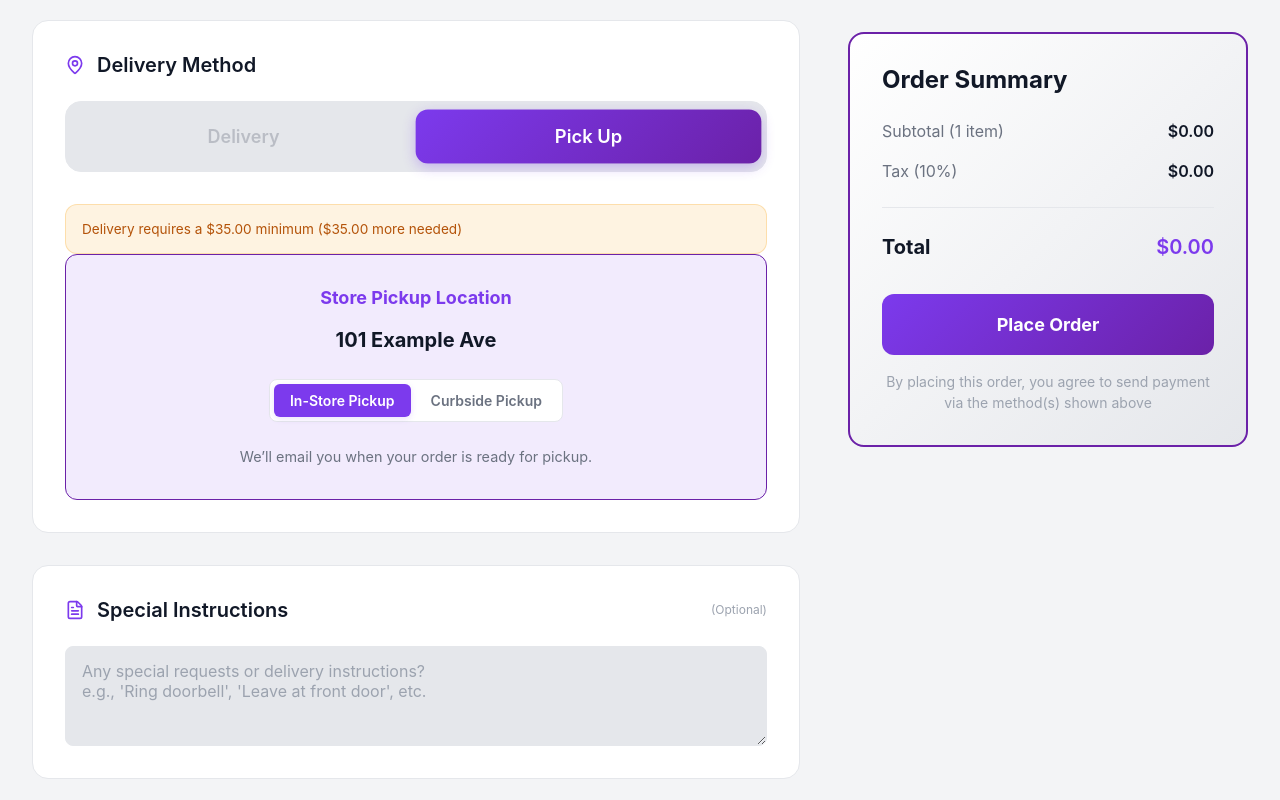
it: CheckoutPage › Curbside Pickup option › reveals curbside vehicle make/model and color inputs when Curbside is toggled
(page scrolled)
expect the field labelled "vehicle make & model" is not shown: met
Note: Click Curbside toggle
Step 1. Click the button "Curbside Pickup" → click(486, 400), box [415, 384, 558, 417]
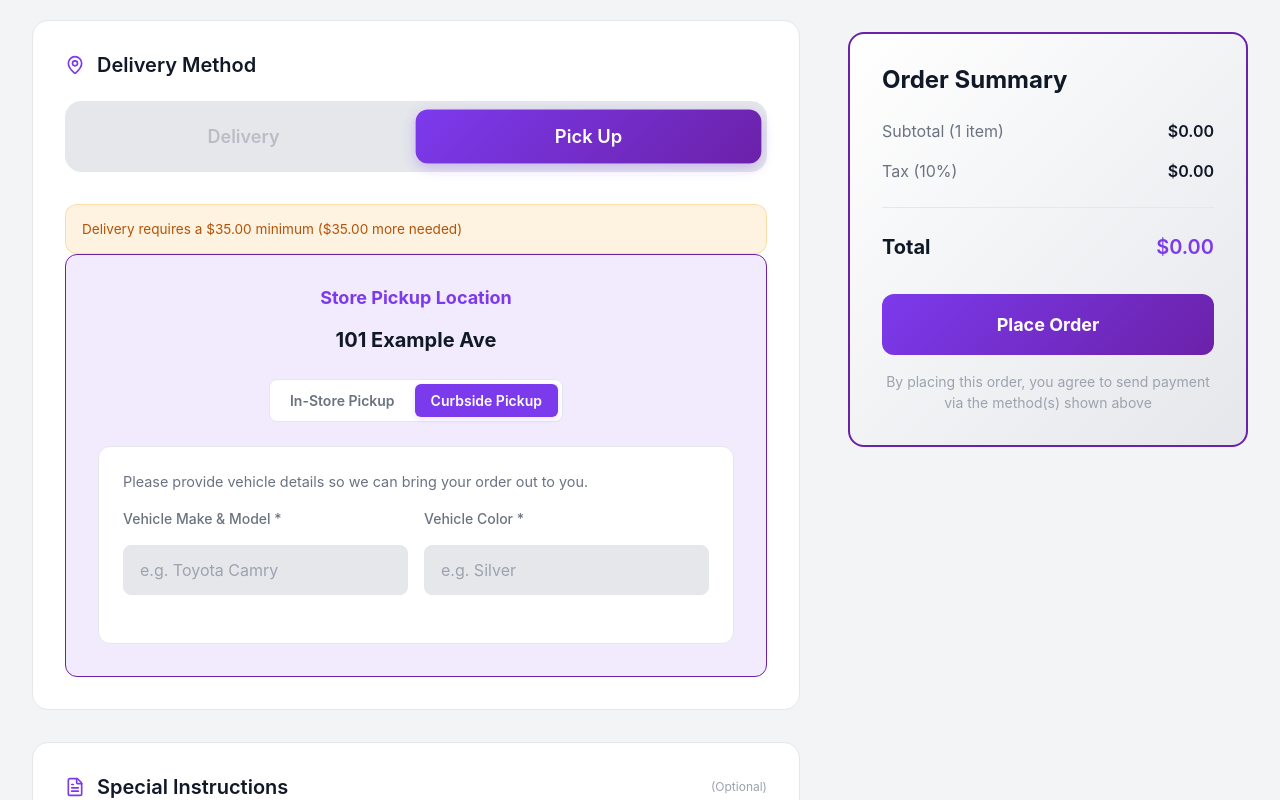
expect the field labelled "Vehicle Make & Model *" is shown: met, box [123, 545, 408, 595]
expect the field labelled "Vehicle Color *" is shown: met, box [424, 545, 709, 595]
